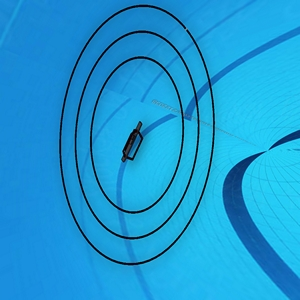circle: (48, 1, 226, 276)
submarine: (117, 121, 146, 164)
